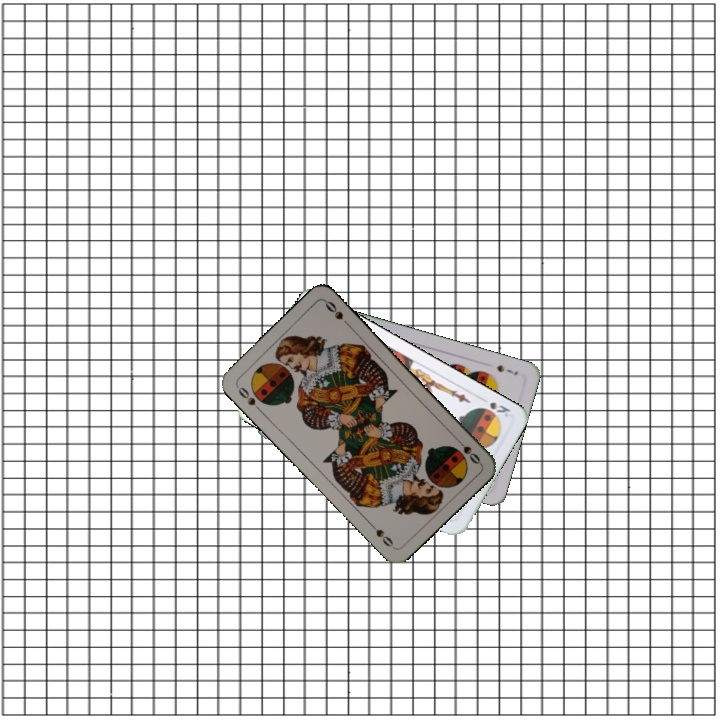S7: (493, 361, 520, 378)
SK: (486, 398, 513, 419)
SO: (451, 433, 483, 467), (233, 382, 265, 415)
